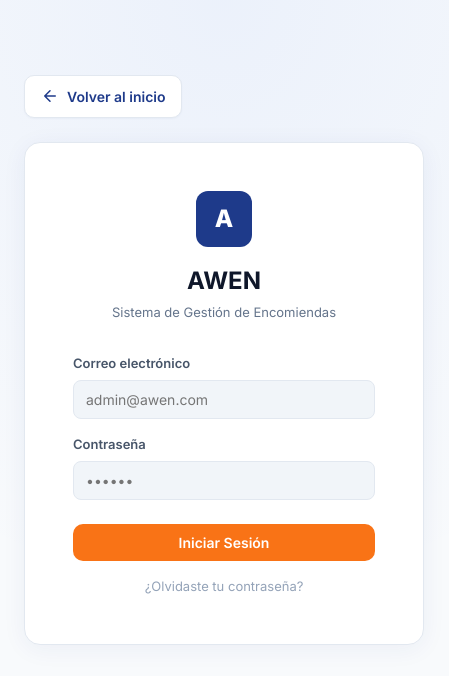
Test: Login page › shows error message on thrown exception
In the field: point(224, 400) 73,380 -> 375,419, type "x@y.com"
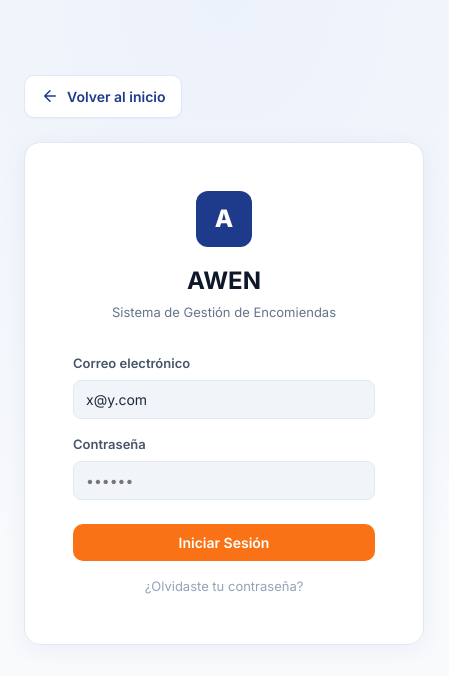
In the password field with placeholder "••••••": point(224, 480) 73,460 -> 375,500, type "pwd"
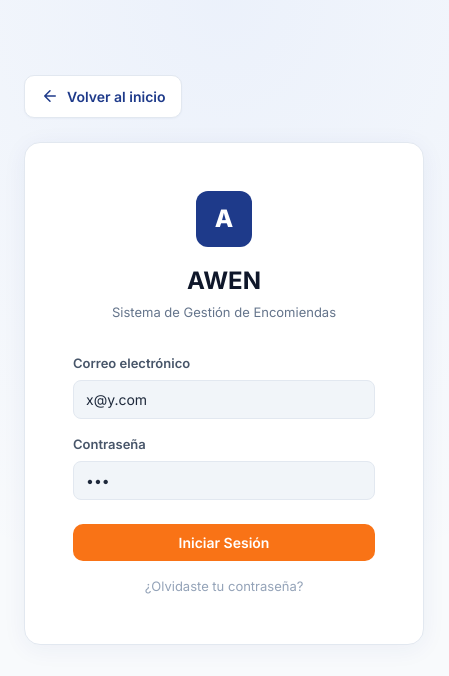
Click the button "Iniciar Sesión": point(224, 542) 73,524 -> 375,560
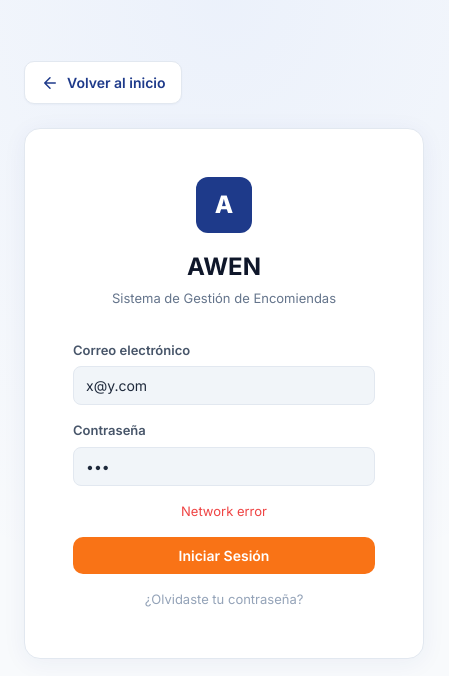
Check: the text "Network error" is shown, box 181,503 -> 267,519
